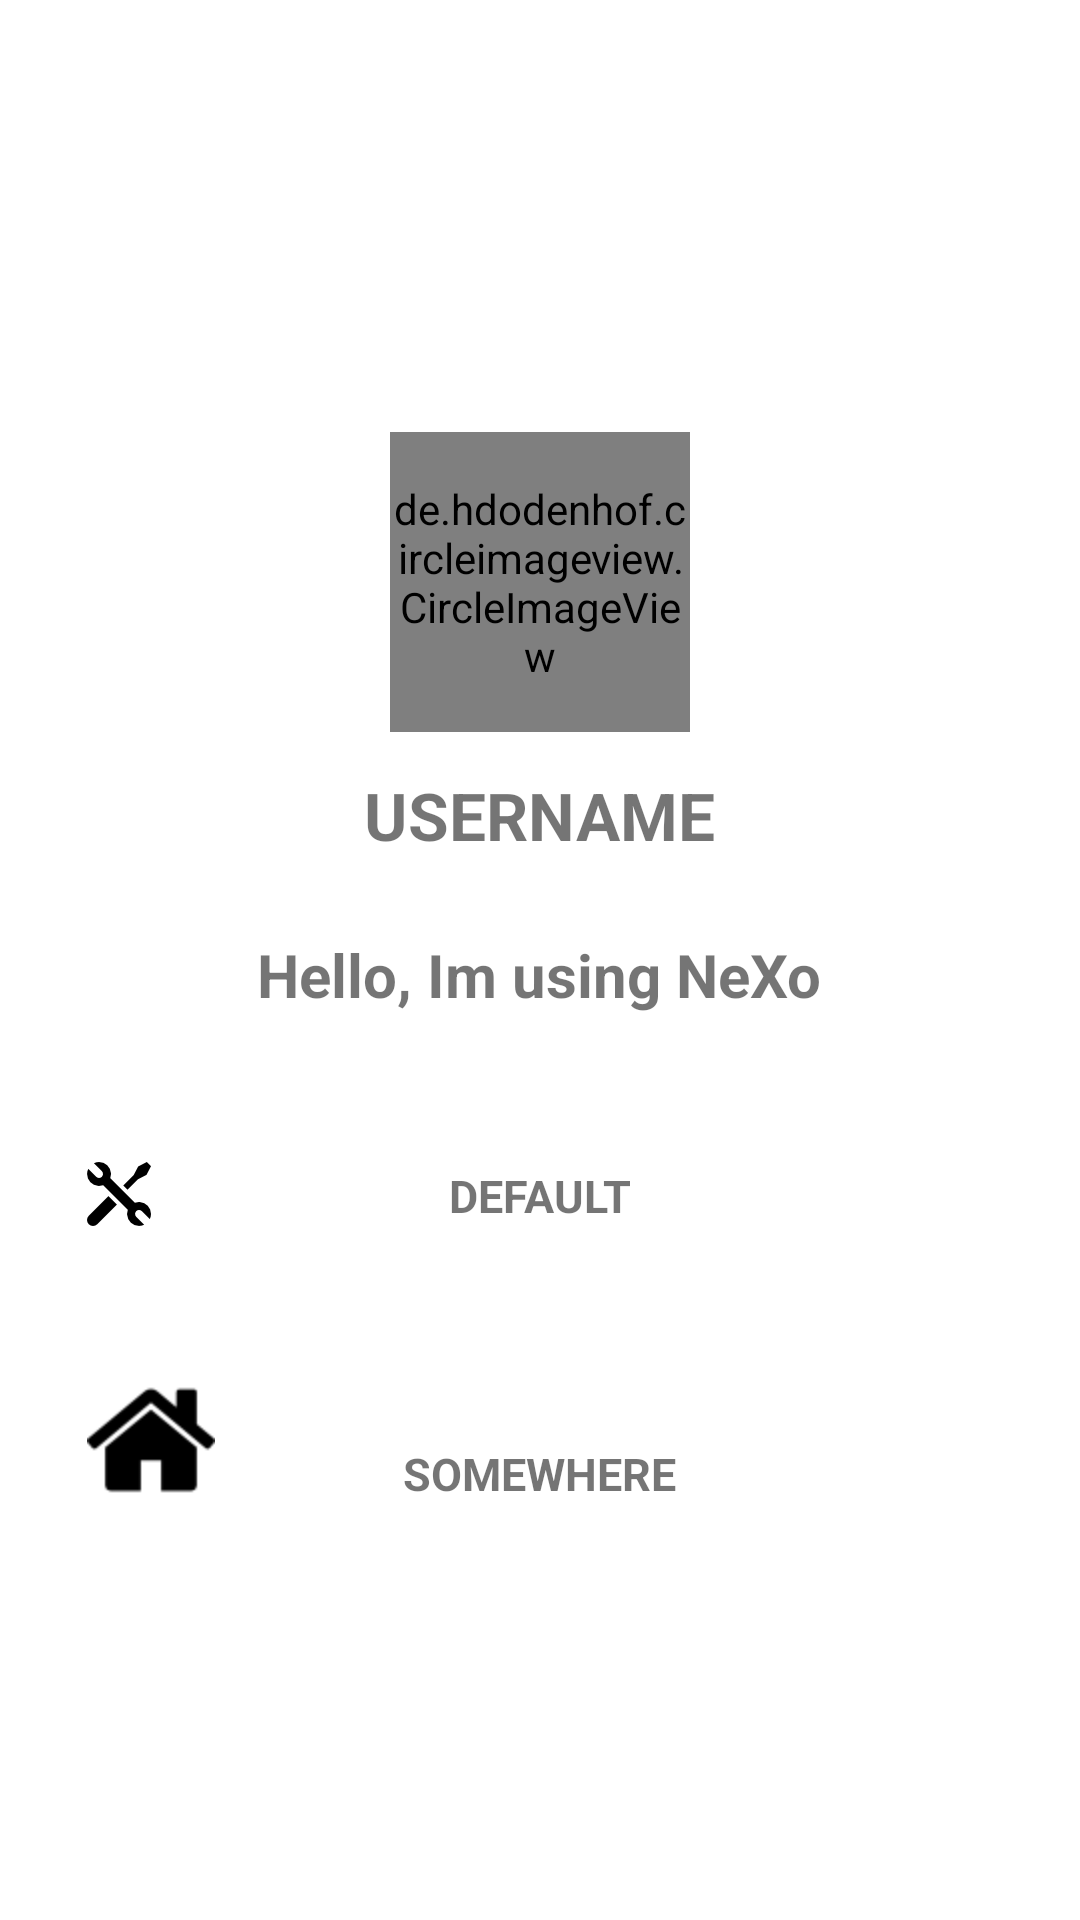

Screen size 1080×1920. Icon name, then its box in pixels as (x1,y1,x2,y2):
home: (87,1387,215,1493)
work: (87,1162,151,1226)
